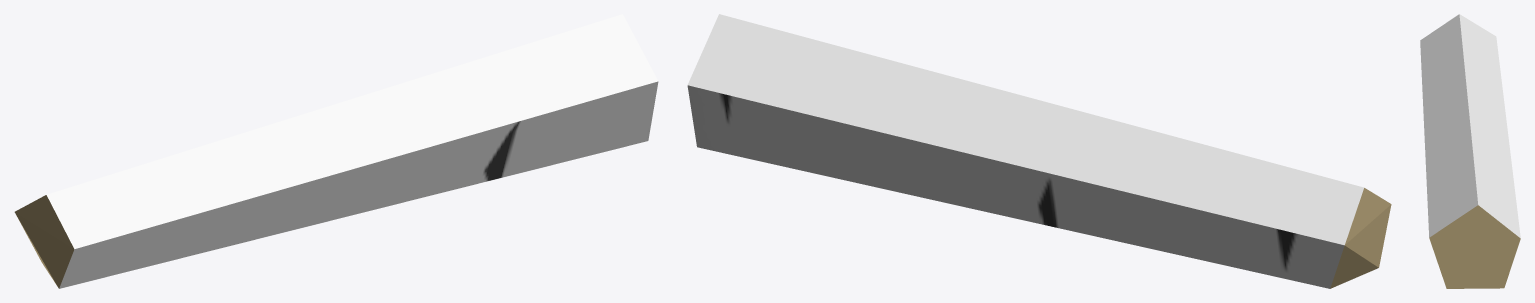
File: Birch_Log_Snow_02_LOD.fbx
The picture shows the model from 3 angles, left to right: view 1: azimuth 30°, elevation 25°; view 2: azimuth 150°, elevation 25°; view 3: azimuth 270°, elevation 25°; orthographic projection. The views are drawn at different scales.
Parts seen in each view (by area): view 1: Birch_Log_Snow_02_LOD0; view 2: Birch_Log_Snow_02_LOD0; view 3: Birch_Log_Snow_02_LOD0.
Boxes of the visible parts, <box> form: Birch_Log_Snow_02_LOD0: <box>14,14,658,288</box>; Birch_Log_Snow_02_LOD0: <box>687,14,1391,288</box>; Birch_Log_Snow_02_LOD0: <box>1420,14,1520,288</box>.
Size of what is drawn, in the model's own units: 169 by 30.15 by 33.35.
